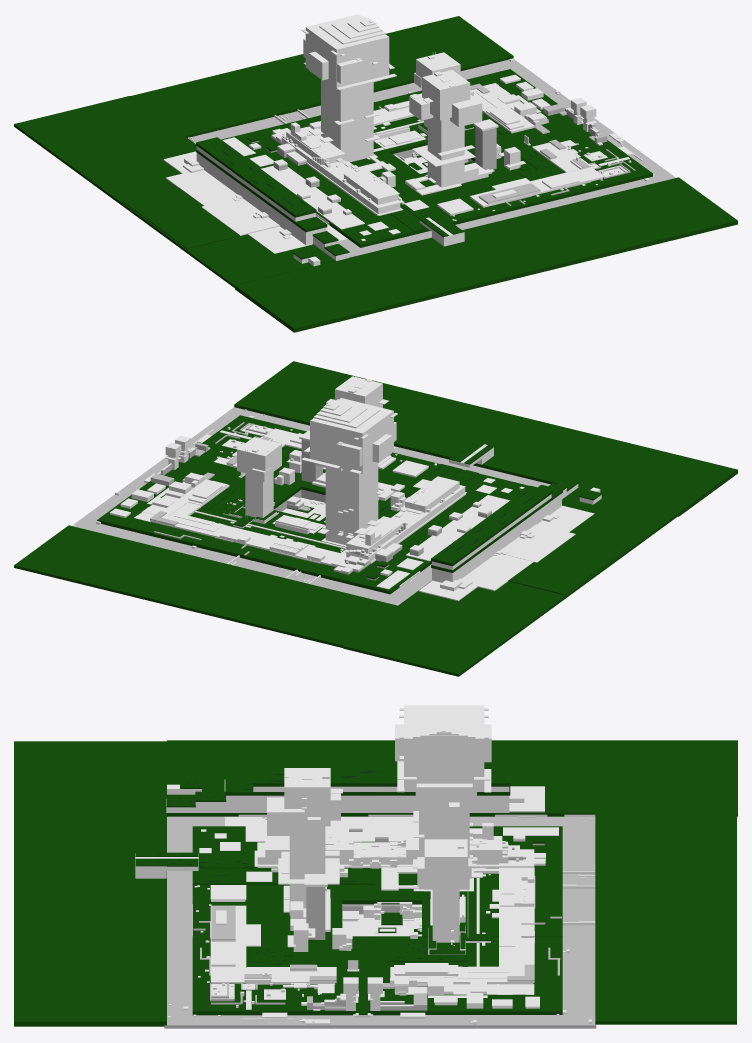
Rendered from CubesParentFinalLevel1.fbx.
3 renders of one model, top to bottom at view 1: azimuth 30°, elevation 25°; view 2: azimuth 150°, elevation 25°; view 3: azimuth 270°, elevation 25°, orthographic. The views are drawn at different scales.
Visible parts, largest first — view 1: Cube_Ref_Clone__269; view 2: Cube_Ref_Clone__269; view 3: Cube_Ref_Clone__269.
Part boxes in pixels (<box>): Cube_Ref_Clone__269: <box>14,14,737,332</box>; Cube_Ref_Clone__269: <box>14,361,737,676</box>; Cube_Ref_Clone__269: <box>14,705,737,1028</box>.
Size of the model in its own units: 26807 by 8159 by 29178.
